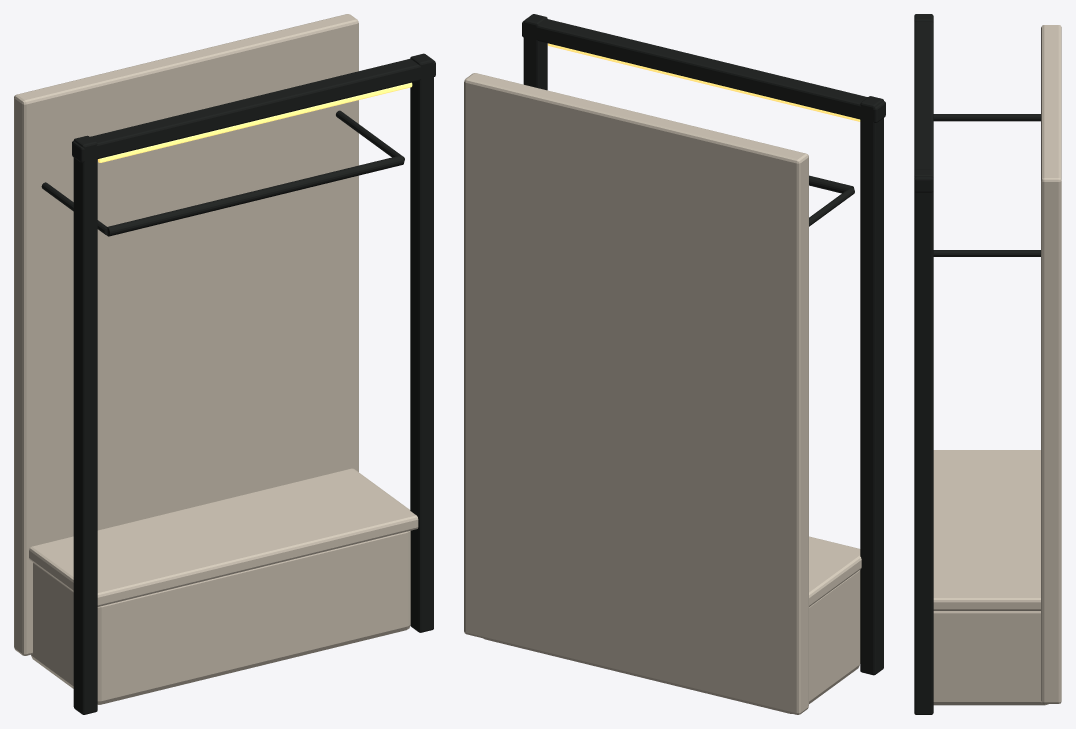
The model's file is origen-display-3-v1.glb.
The picture shows the model from 3 angles, left to right: view 1: azimuth 30°, elevation 25°; view 2: azimuth 150°, elevation 25°; view 3: azimuth 270°, elevation 25°; orthographic projection. The views are drawn at different scales.
Parts seen in each view (by area): view 1: ORIGEN_Display_Stone, ORIGEN_Display_Black_Metal, ORIGEN_Display_Warm_LED; view 2: ORIGEN_Display_Stone, ORIGEN_Display_Black_Metal, ORIGEN_Display_Warm_LED; view 3: ORIGEN_Display_Stone, ORIGEN_Display_Black_Metal.
Part boxes in pixels (<box>): ORIGEN_Display_Stone: <box>14,14,418,704</box>; ORIGEN_Display_Black_Metal: <box>41,53,435,714</box>; ORIGEN_Display_Warm_LED: <box>98,82,412,162</box>; ORIGEN_Display_Stone: <box>464,73,861,714</box>; ORIGEN_Display_Black_Metal: <box>522,14,885,675</box>; ORIGEN_Display_Warm_LED: <box>548,43,860,121</box>; ORIGEN_Display_Stone: <box>933,25,1061,705</box>; ORIGEN_Display_Black_Metal: <box>914,14,1040,714</box>.
Size of the model in its own units: 1.51 by 2.31 by 0.5725.
